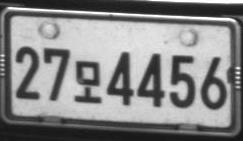2: (14, 45, 39, 100)
4: (136, 52, 165, 108), (106, 51, 134, 105)
5: (169, 54, 196, 109)
6: (199, 56, 227, 110)
7: (41, 47, 71, 101)
모: (74, 60, 102, 103)
